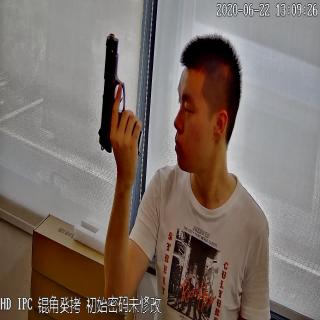gun: (95, 26, 142, 153)
